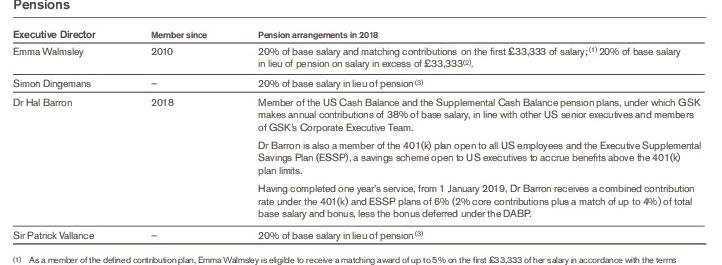table: (0, 0, 722, 265)
